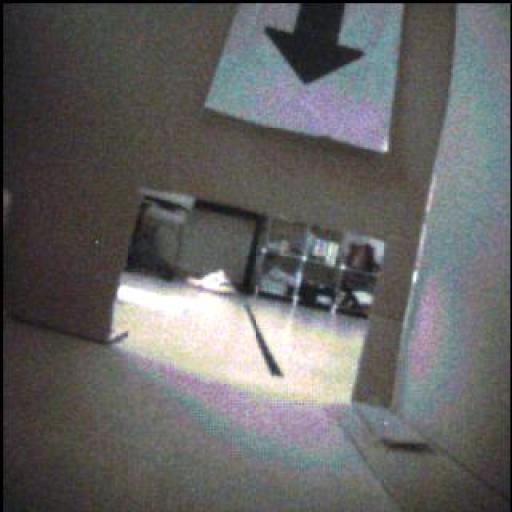arrow: (267, 4, 364, 84)
